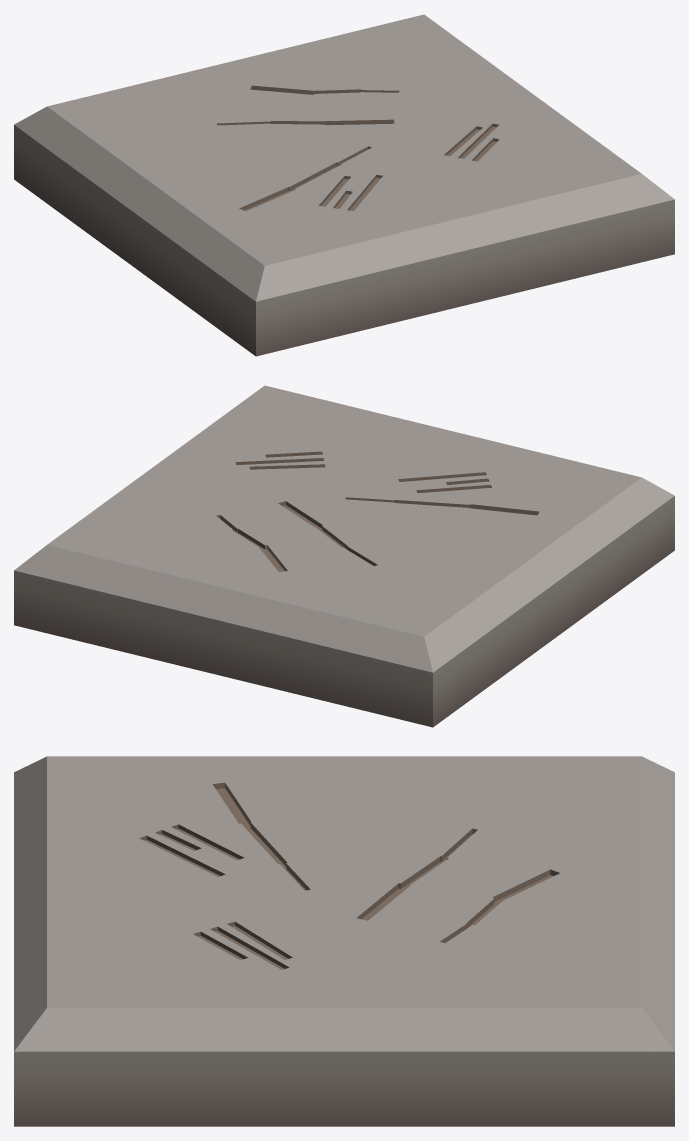
Rendered from pressure_plate.glb.
The picture shows the model from 3 angles, top to bottom: view 1: azimuth 30°, elevation 25°; view 2: azimuth 150°, elevation 25°; view 3: azimuth 270°, elevation 25°; orthographic projection. The views are drawn at different scales.
Visible parts, largest first — view 1: pressure_plate; view 2: pressure_plate; view 3: pressure_plate.
Boxes of the visible parts, x1=… form: pressure_plate: x1=14, y1=14, x2=674, y2=356; pressure_plate: x1=14, y1=385, x2=674, y2=727; pressure_plate: x1=14, y1=756, x2=674, y2=1126.
Size of the model in its own units: 1.6 by 0.28 by 1.6.
Materials: 1 (1 with a texture image).
